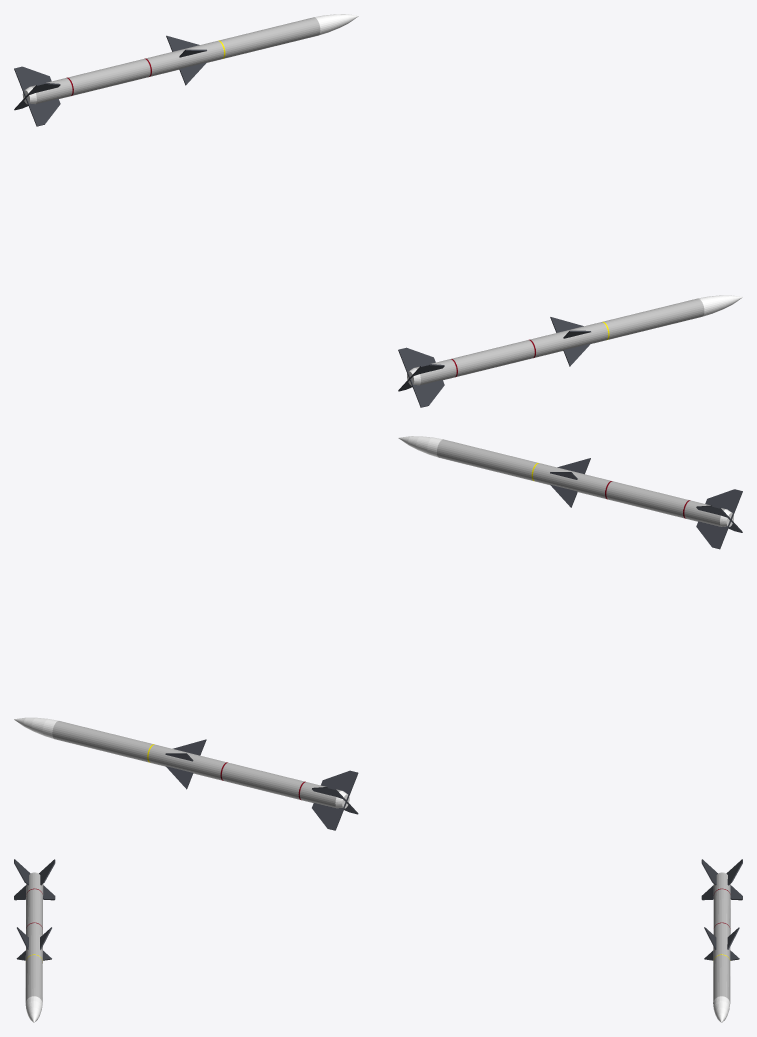
The model's file is f15eaim120512.glb.
3 renders of one model, top to bottom at view 1: azimuth 30°, elevation 25°; view 2: azimuth 150°, elevation 25°; view 3: azimuth 270°, elevation 25°, orthographic. The views are drawn at different scales.
Parts seen in each view (by area): view 1: 円柱.006, 円柱.003; view 2: 円柱.003, 円柱.006; view 3: 円柱.003, 円柱.006.
Boxes of the visible parts, bbox=[...] form: 円柱.006: bbox=[398, 295, 742, 407]; 円柱.003: bbox=[14, 14, 358, 126]; 円柱.003: bbox=[14, 717, 358, 830]; 円柱.006: bbox=[398, 436, 742, 549]; 円柱.003: bbox=[701, 859, 742, 1022]; 円柱.006: bbox=[14, 859, 55, 1022].
Size of the model in its own units: 4.39 by 0.5295 by 9.29.
Materials: 4 (4 with a texture image).
